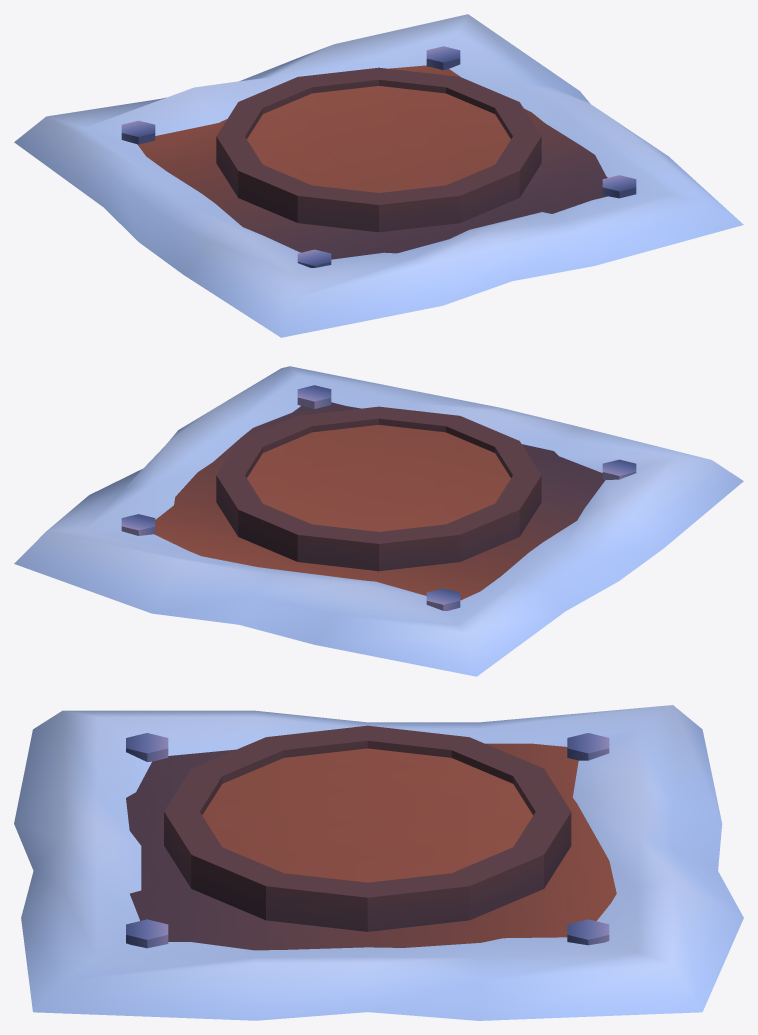
The model's file is button 1.fbx.
3 views of the same model, one above another, from view 1: azimuth 30°, elevation 25°; view 2: azimuth 150°, elevation 25°; view 3: azimuth 270°, elevation 25° (orthographic). The views are drawn at different scales.
Visible parts, largest first — view 1: polySurface19, polySurface18; view 2: polySurface19, polySurface18; view 3: polySurface19, polySurface18.
Boxes of the visible parts, bbox=[...] form: polySurface19: bbox=[14, 14, 743, 337]; polySurface18: bbox=[247, 86, 510, 192]; polySurface19: bbox=[14, 366, 743, 676]; polySurface18: bbox=[247, 425, 510, 531]; polySurface19: bbox=[14, 705, 743, 1020]; polySurface18: bbox=[202, 748, 532, 882].
Size of the model in its own units: 0.7646 by 0.0752 by 0.7943.
